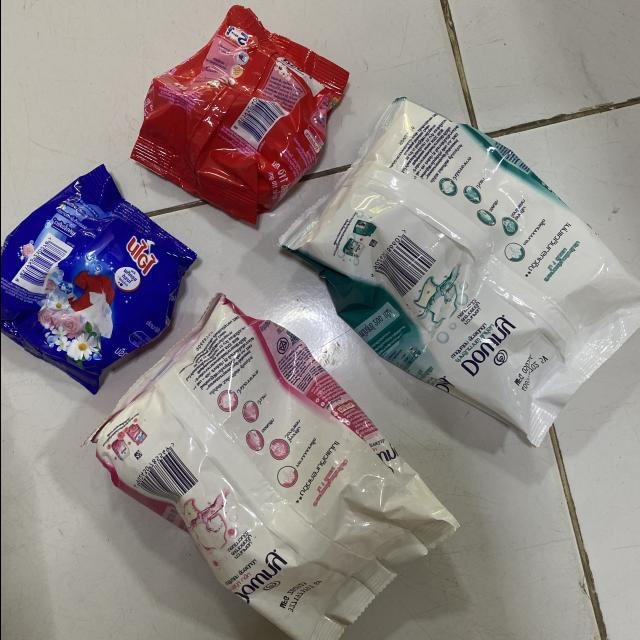plastik: (86, 294, 455, 640), (278, 99, 640, 446), (130, 6, 347, 224), (0, 165, 196, 393)
